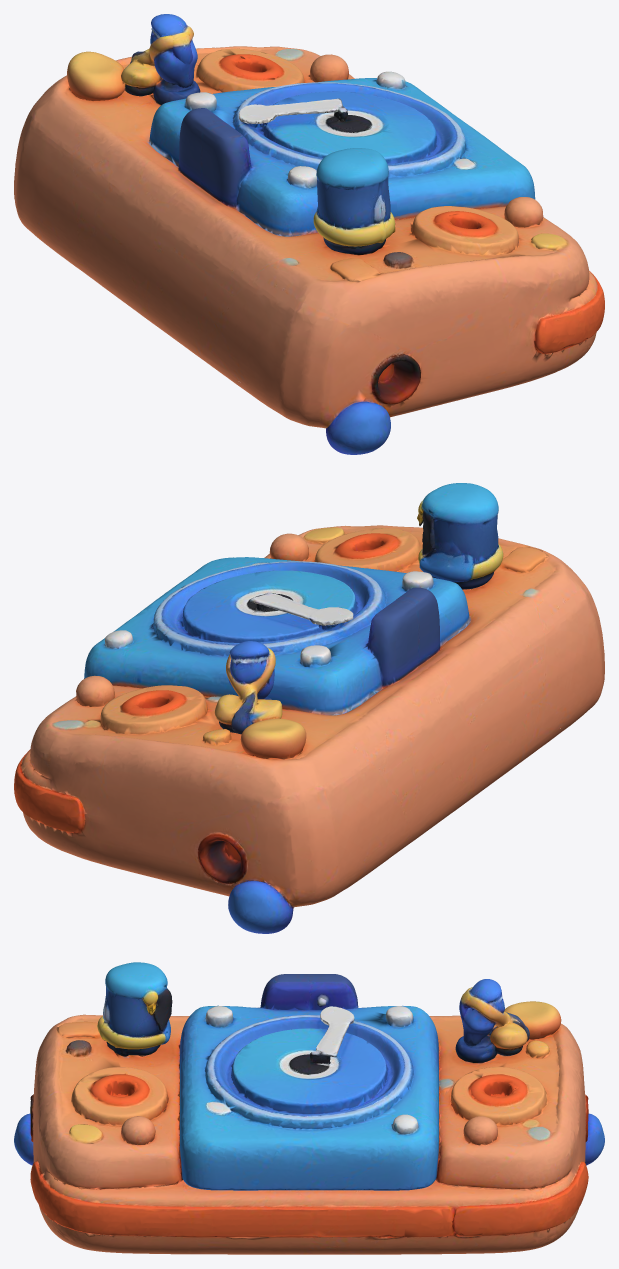
Rendered from env_nest_deco_01.glb.
3 views of the same model, one above another, from view 1: azimuth 30°, elevation 25°; view 2: azimuth 150°, elevation 25°; view 3: azimuth 270°, elevation 25° (orthographic). The views are drawn at different scales.
Parts seen in each view (by area): view 1: tripo_node_665818e1-426b-4fe2-a0b1-3bb2c715c256; view 2: tripo_node_665818e1-426b-4fe2-a0b1-3bb2c715c256; view 3: tripo_node_665818e1-426b-4fe2-a0b1-3bb2c715c256.
Part boxes in pixels (x1=…): tripo_node_665818e1-426b-4fe2-a0b1-3bb2c715c256: x1=14, y1=14, x2=604, y2=454; tripo_node_665818e1-426b-4fe2-a0b1-3bb2c715c256: x1=14, y1=483, x2=604, y2=933; tripo_node_665818e1-426b-4fe2-a0b1-3bb2c715c256: x1=14, y1=962, x2=604, y2=1254.
Size of the model in its own units: 1.73 by 1.2 by 2.95.
Materials: 1 (1 with a texture image).
